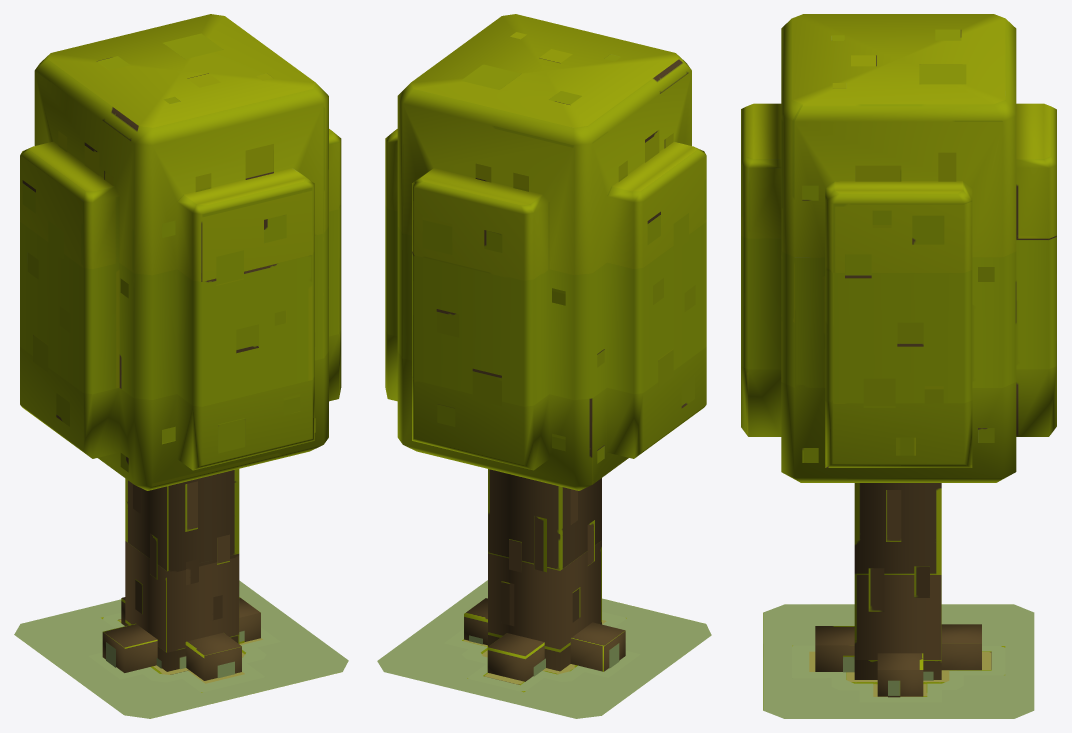
Rendered from B_water2_tree02.fbx.
The picture shows the model from 3 angles, left to right: view 1: azimuth 30°, elevation 25°; view 2: azimuth 150°, elevation 25°; view 3: azimuth 270°, elevation 25°; orthographic projection. The views are drawn at different scales.
Parts seen in each view (by area): view 1: model 1, model; view 2: model 1, model; view 3: model 1, model.
Part boxes in pixels (<box>): model 1: <box>14,14,348,718</box>; model: <box>88,613,280,692</box>; model 1: <box>377,14,711,718</box>; model: <box>444,612,640,692</box>; model 1: <box>741,14,1056,718</box>; model: <box>792,645,1005,702</box>.
Bounding box in the file's own units: 5.2 × 11.1 × 5.27.
Materials: 1 (1 with a texture image).
